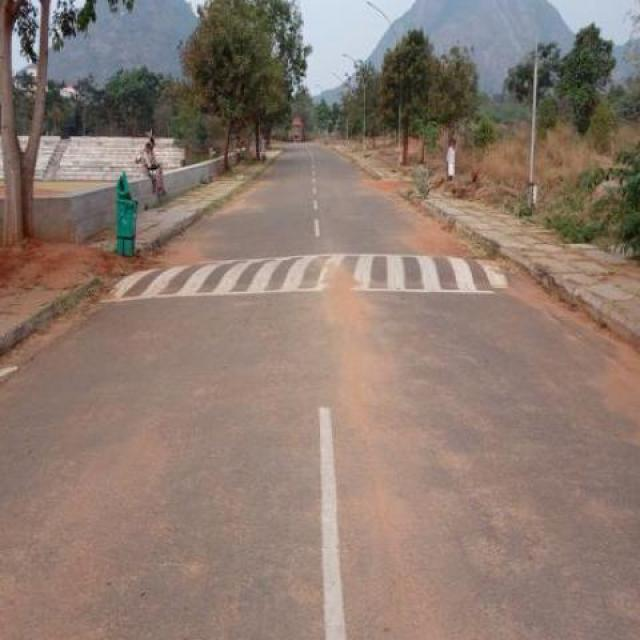Speed Bump: (101, 240, 512, 298)
